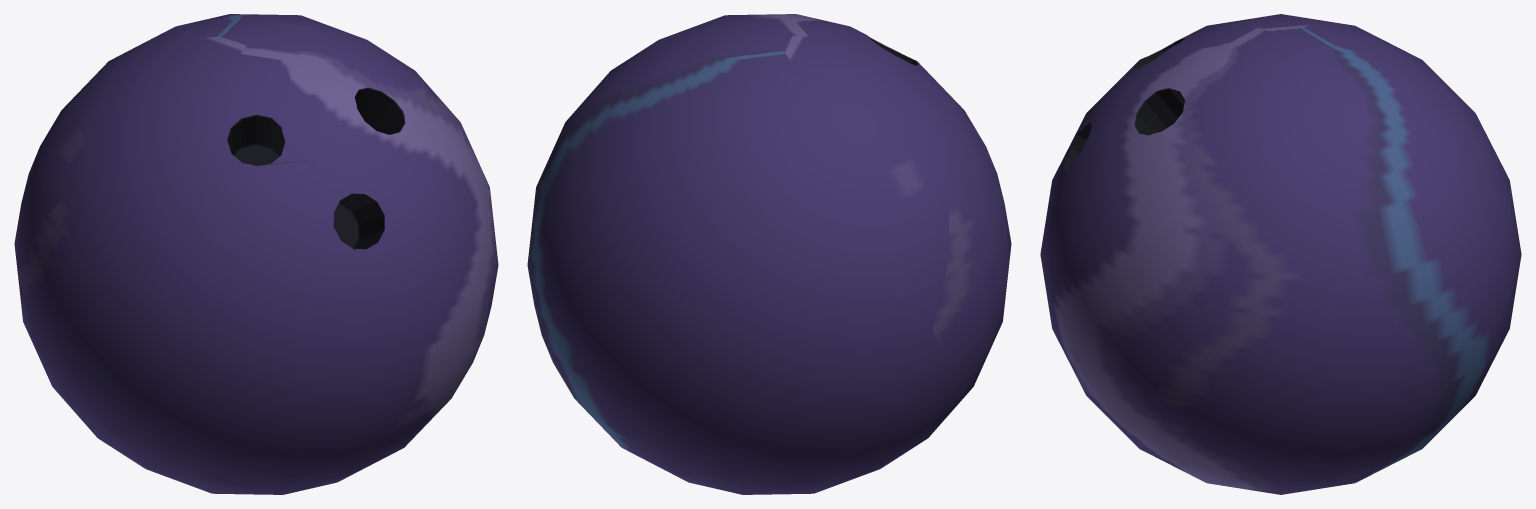
The model's file is bowling_ball_marbled.glb.
The picture shows the model from 3 angles, left to right: view 1: azimuth 30°, elevation 25°; view 2: azimuth 150°, elevation 25°; view 3: azimuth 270°, elevation 25°; orthographic projection.
Visible parts, largest first — view 1: arcade_bowling_ball_marbled; view 2: arcade_bowling_ball_marbled; view 3: arcade_bowling_ball_marbled.
Boxes of the visible parts, bbox=[...] form: arcade_bowling_ball_marbled: bbox=[14, 14, 498, 494]; arcade_bowling_ball_marbled: bbox=[527, 14, 1011, 494]; arcade_bowling_ball_marbled: bbox=[1040, 14, 1521, 494].
Bounding box in the file's own units: 0.216 × 0.216 × 0.216.
1 material, 1 textured.
